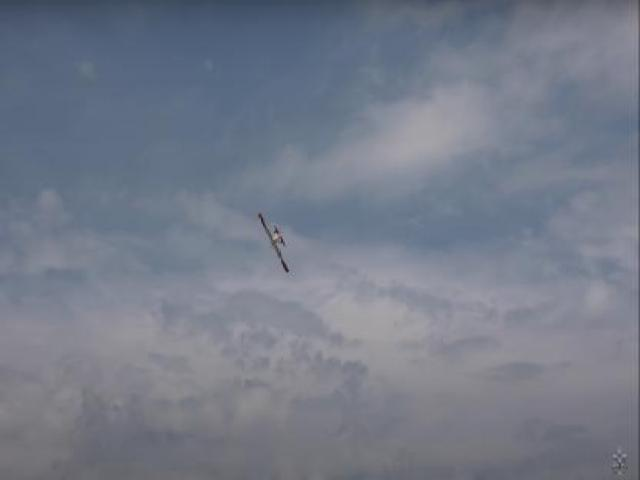uav: (255, 208, 292, 280)
